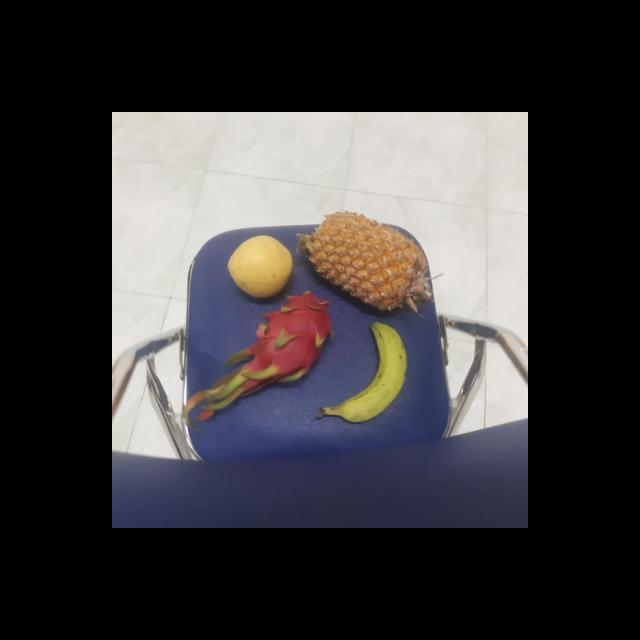banana: (318, 319, 408, 424)
pear: (223, 234, 294, 299)
pineapple: (301, 207, 429, 318)
pitaya: (244, 292, 334, 384)
